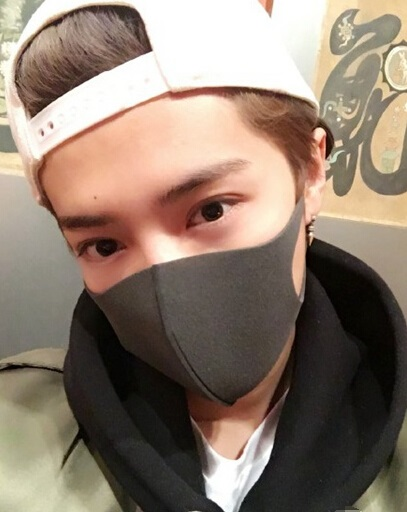face_mask: (66, 93, 298, 397)
